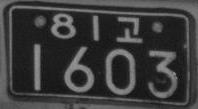0: (104, 47, 136, 95)
1: (23, 43, 53, 91), (84, 15, 107, 40)
3: (147, 49, 178, 98)
6: (63, 45, 95, 93)
8: (50, 12, 77, 39)
고: (115, 16, 142, 43)
